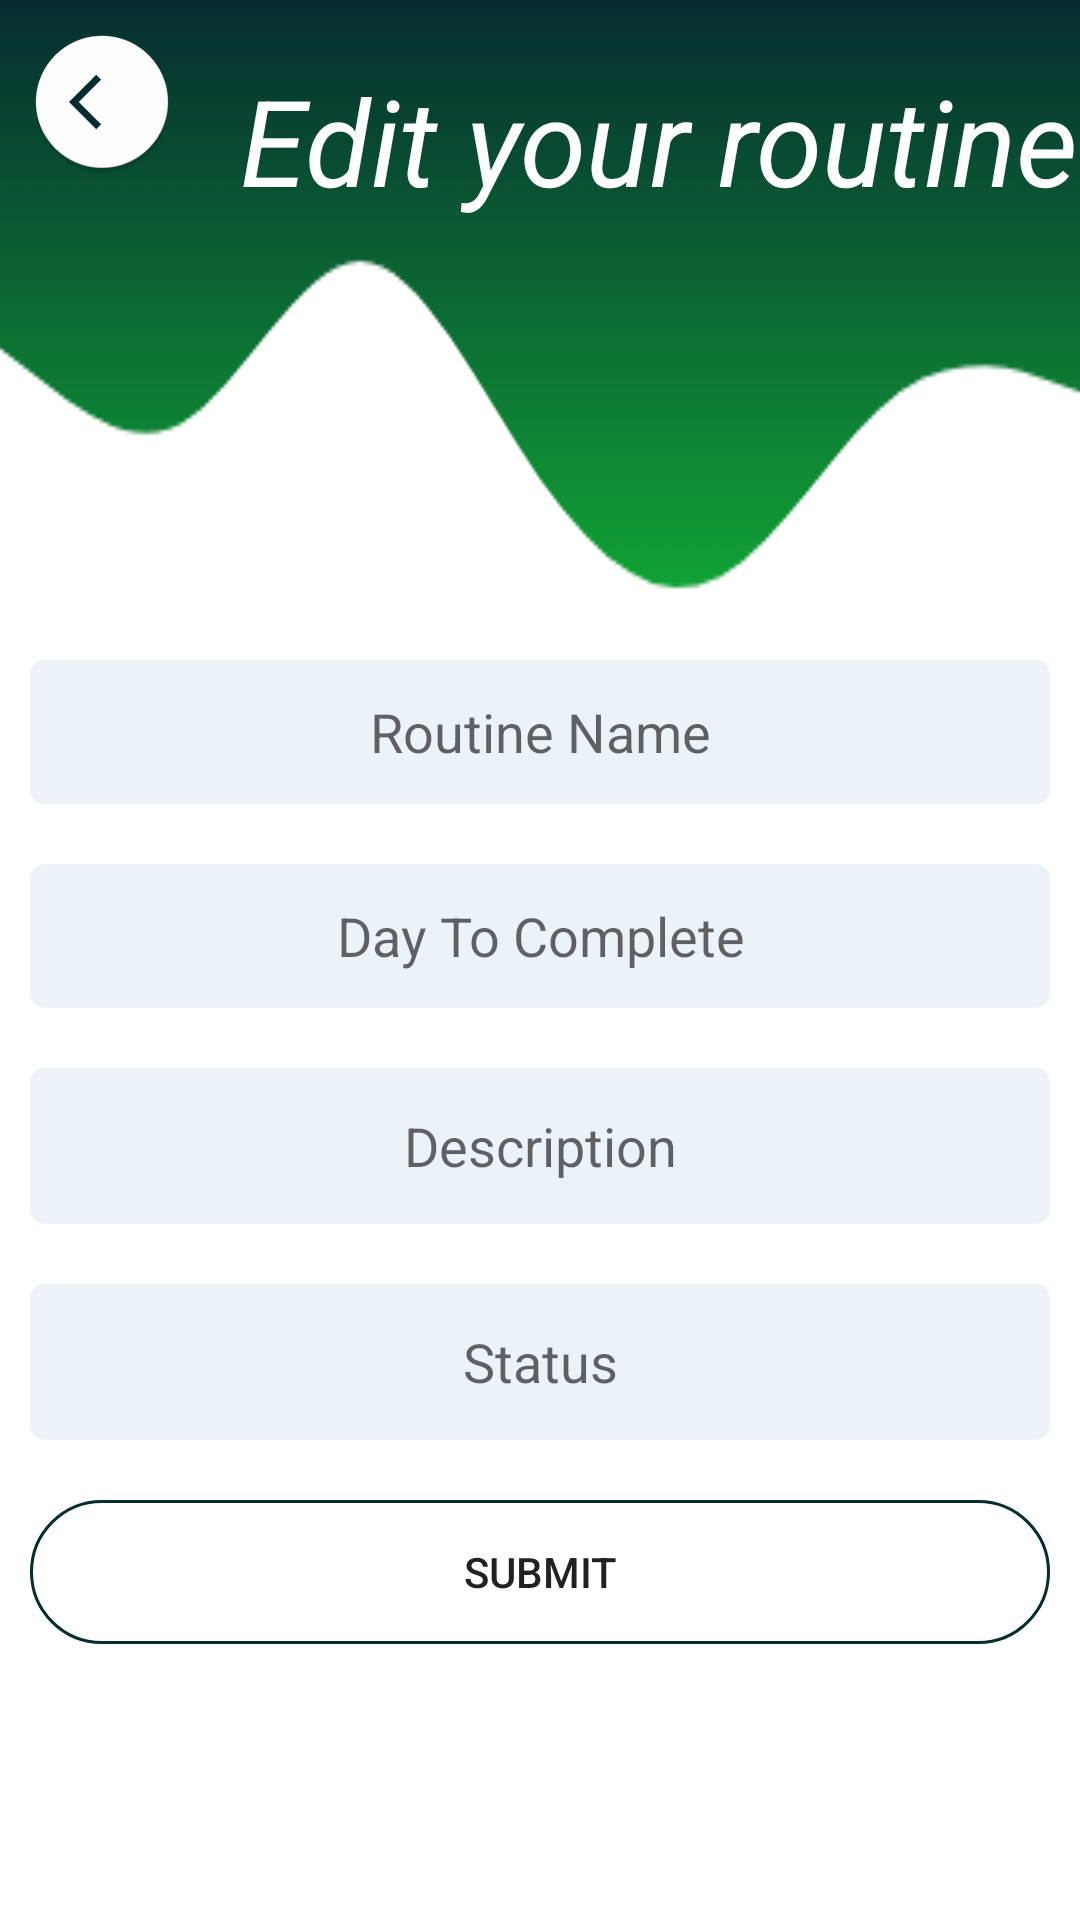

Icon click points for this 1080w x 1920h phone screenshot, format [x,y]:
back: [102,101]
